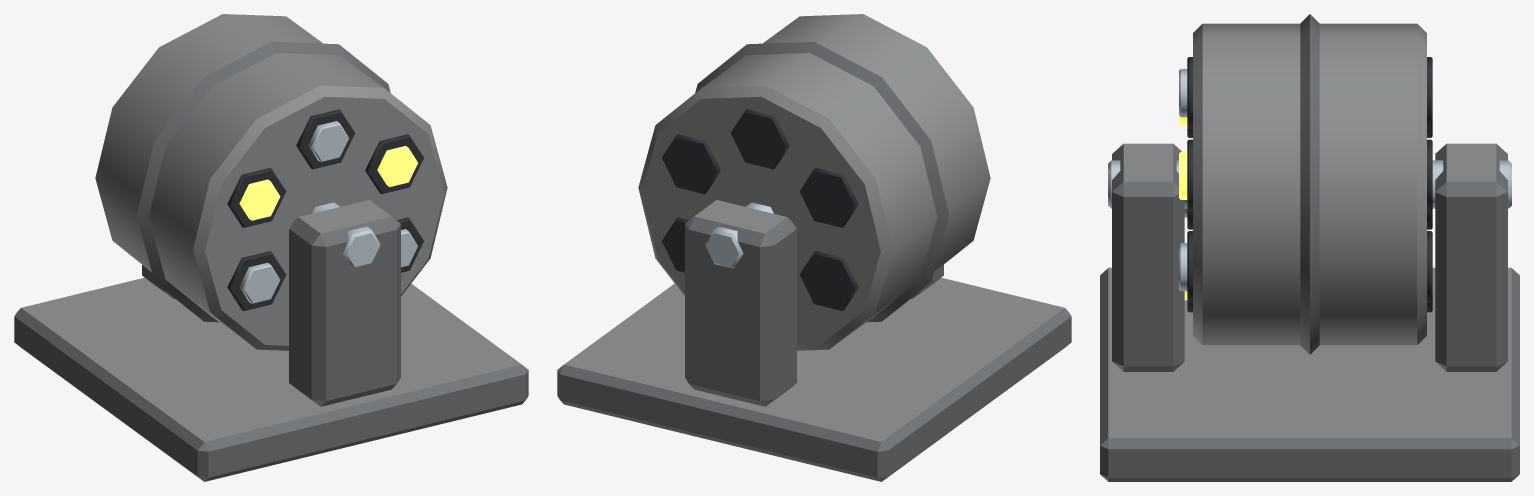
Rendered from R4X_ReloadBooster_LOD1.glb.
3 renders of one model, left to right at view 1: azimuth 30°, elevation 25°; view 2: azimuth 150°, elevation 25°; view 3: azimuth 270°, elevation 25°, orthographic. The views are drawn at different scales.
Visible parts, largest first — view 1: R4X_ReloadBooster_LOD1; view 2: R4X_ReloadBooster_LOD1; view 3: R4X_ReloadBooster_LOD1.
Boxes of the visible parts, x1=… form: R4X_ReloadBooster_LOD1: x1=14, y1=14, x2=528, y2=481; R4X_ReloadBooster_LOD1: x1=557, y1=14, x2=1071, y2=481; R4X_ReloadBooster_LOD1: x1=1100, y1=14, x2=1519, y2=481.
Size of the model in its own units: 0.52 by 0.502 by 0.52.
